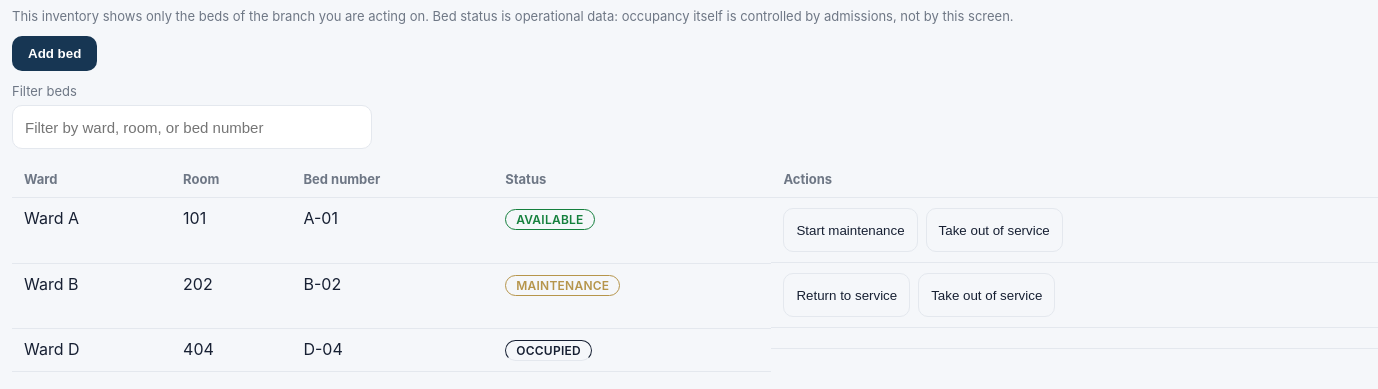
Test: BedsPage (plan3.md Task 6) › surfaces the create conflict (409) inline and keeps the form values
Expected: the table named "Registered beds" is shown, [12, 161, 1377, 372]
Click the button "Add bed" at (55, 54), box [12, 36, 97, 71]
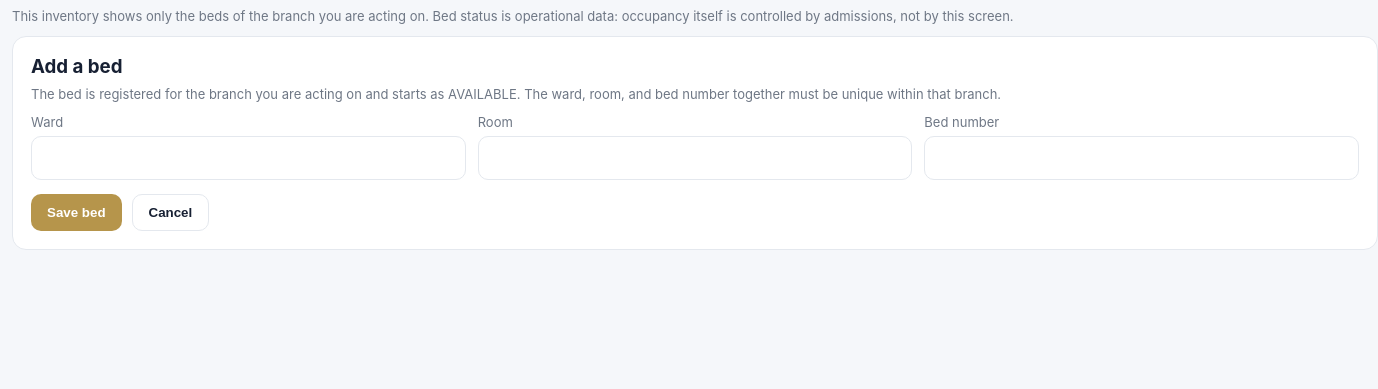
Type "Ward A" into the field labelled "Ward" at (248, 158), box [31, 136, 466, 180]
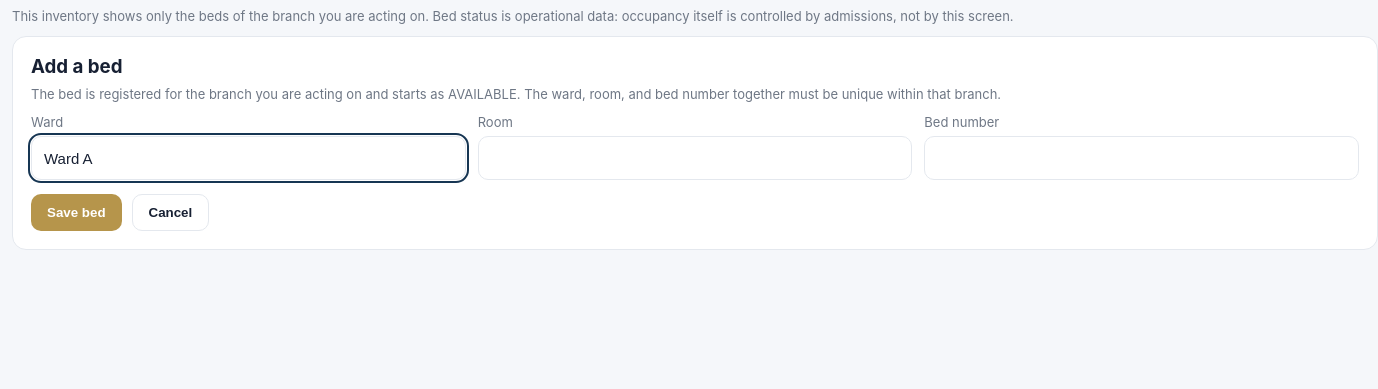
Type "101" into the field labelled "Room" at (695, 158), box [478, 136, 912, 180]
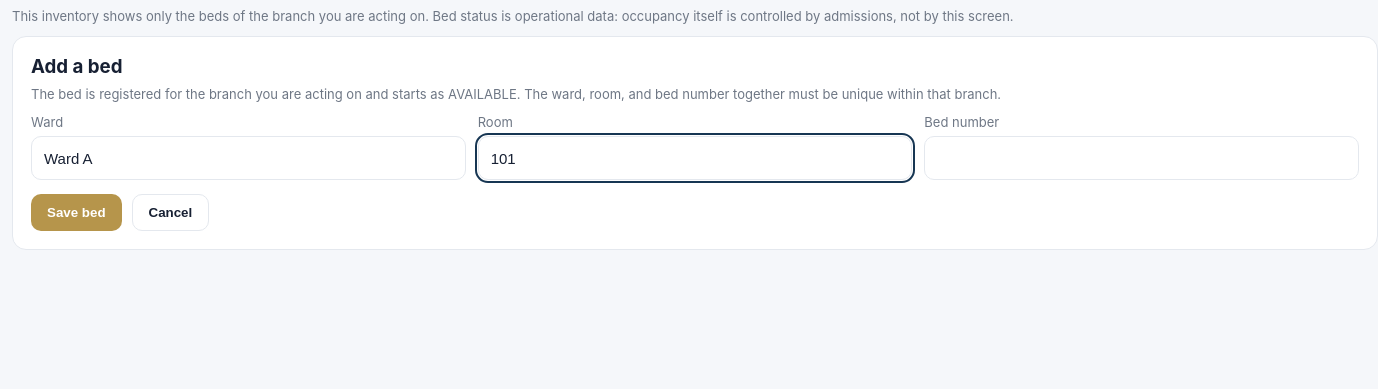
Type "A-01" into the field labelled "Bed number" at (1142, 158), box [924, 136, 1359, 180]
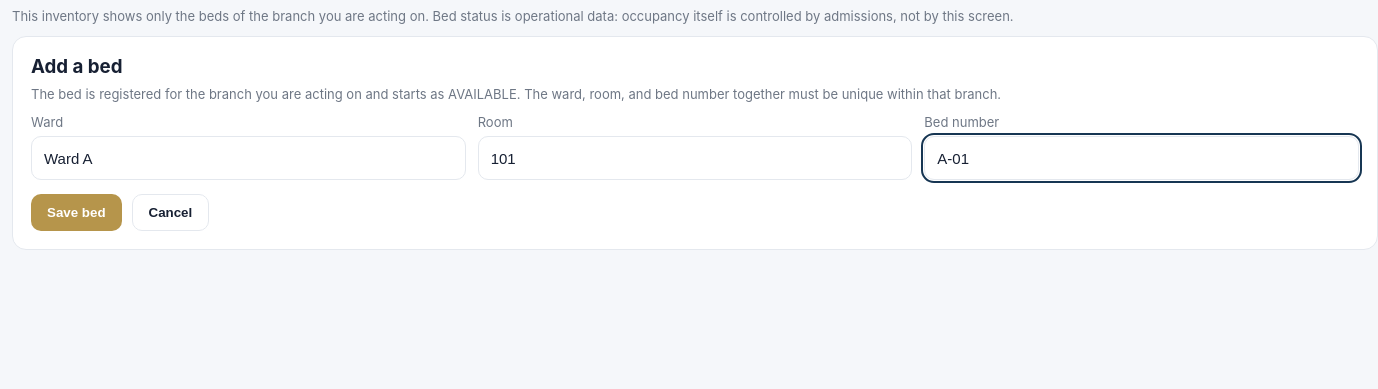
Click the button "Save bed" at (76, 212), box [31, 194, 122, 231]
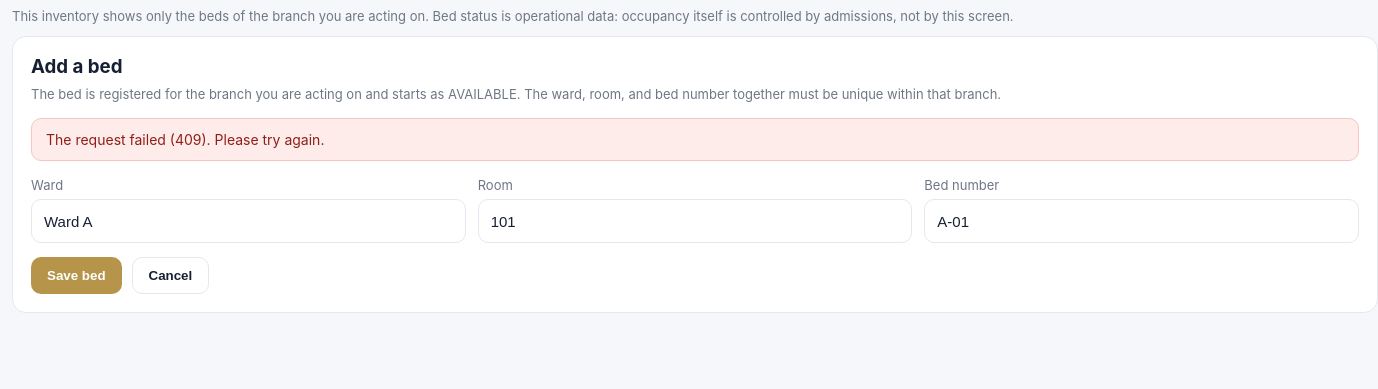
Expected: the message shows "The request failed (409)", [46, 131, 324, 148]
